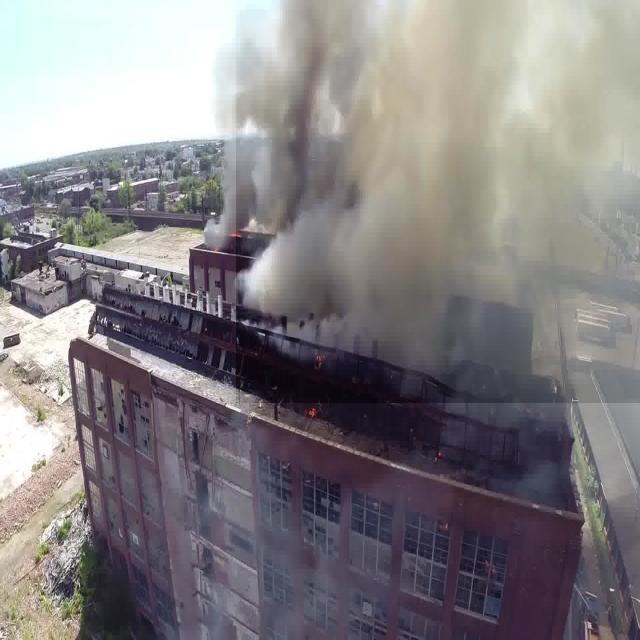Smoke: (236, 0, 640, 403)
